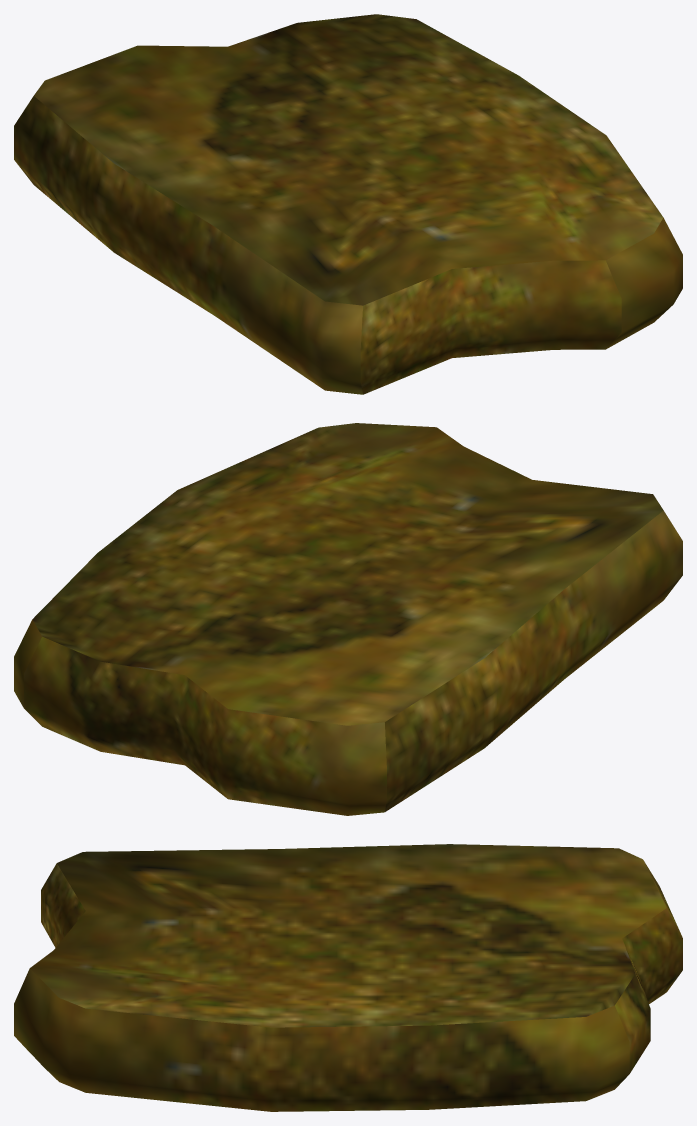
File: mexican_brick.FBX
The picture shows the model from 3 angles, top to bottom: view 1: azimuth 30°, elevation 25°; view 2: azimuth 150°, elevation 25°; view 3: azimuth 270°, elevation 25°; orthographic projection. The views are drawn at different scales.
Parts seen in each view (by area): view 1: mexican_brick; view 2: mexican_brick; view 3: mexican_brick.
Part boxes in pixels (x1,y1,x2,y2): mexican_brick: (14,14,682,394); mexican_brick: (14,423,682,815); mexican_brick: (14,844,682,1111).
Size of the model in its own units: 25.11 by 5.09 by 36.67.
